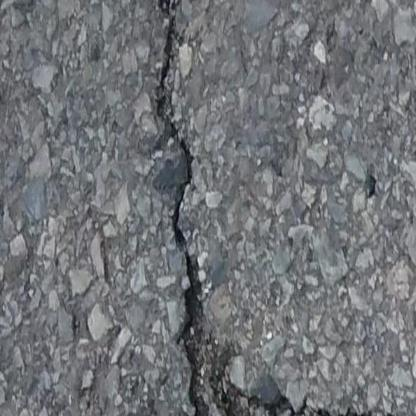Cracks: (152, 0, 407, 416)
